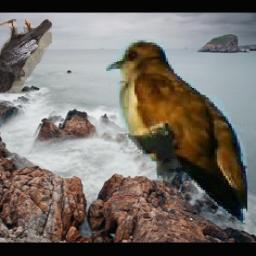Crow: (0, 20, 53, 94)
Cuckoo: (106, 40, 247, 225)
